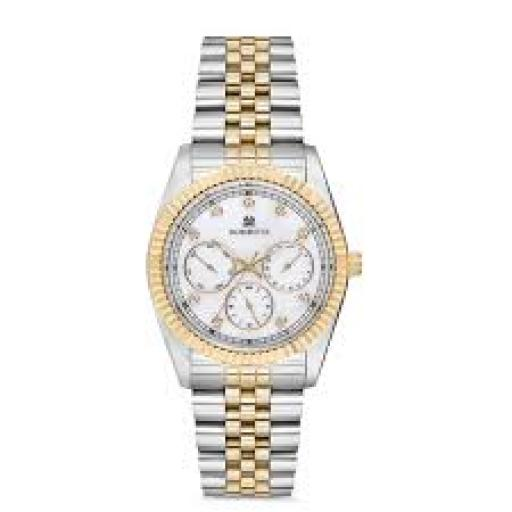KolSaati: (124, 20, 382, 512)
